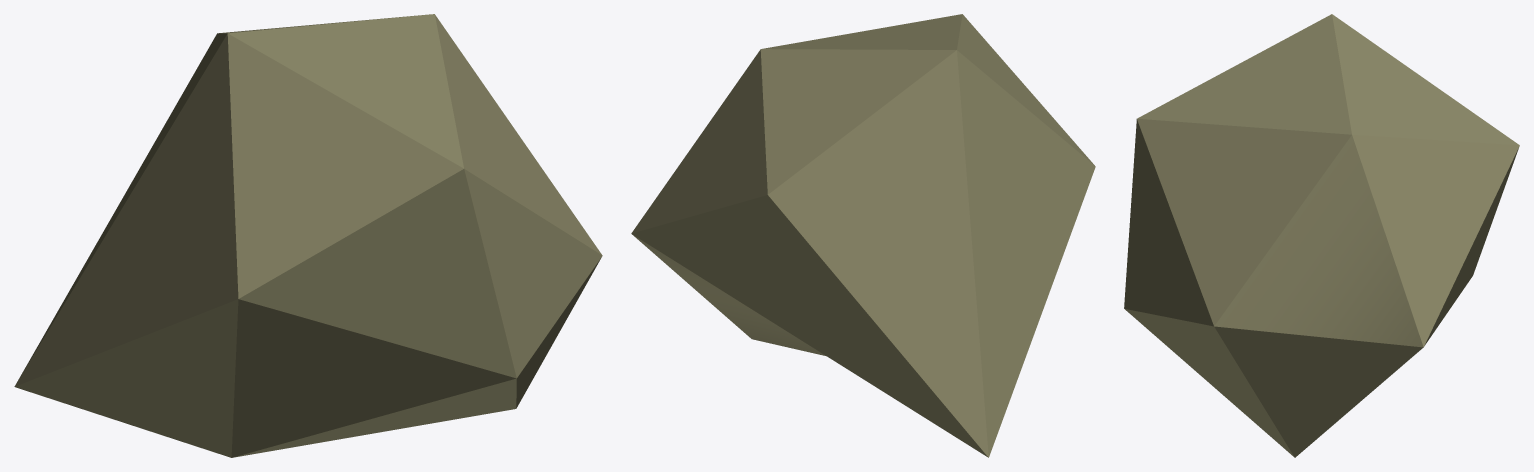
The model's file is Bush_4.fbx.
The picture shows the model from 3 angles, left to right: view 1: azimuth 30°, elevation 25°; view 2: azimuth 150°, elevation 25°; view 3: azimuth 270°, elevation 25°; orthographic projection. The views are drawn at different scales.
Visible parts, largest first — view 1: Bush1; view 2: Bush1; view 3: Bush1.
Part boxes in pixels (left/top/right/bottom): Bush1: left=14, top=14, right=602, bottom=457; Bush1: left=631, top=14, right=1095, bottom=457; Bush1: left=1124, top=14, right=1519, bottom=457.
Size of the model in its own units: 124 by 111 by 117.
